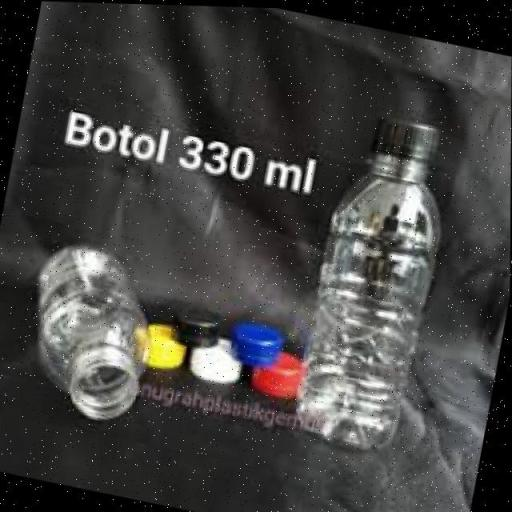plastic: (286, 98, 464, 463), (12, 232, 170, 432)
